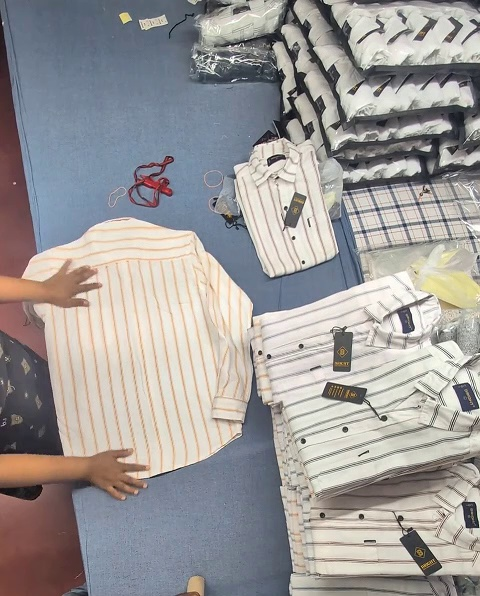SHIRT: (0, 92, 480, 472)
